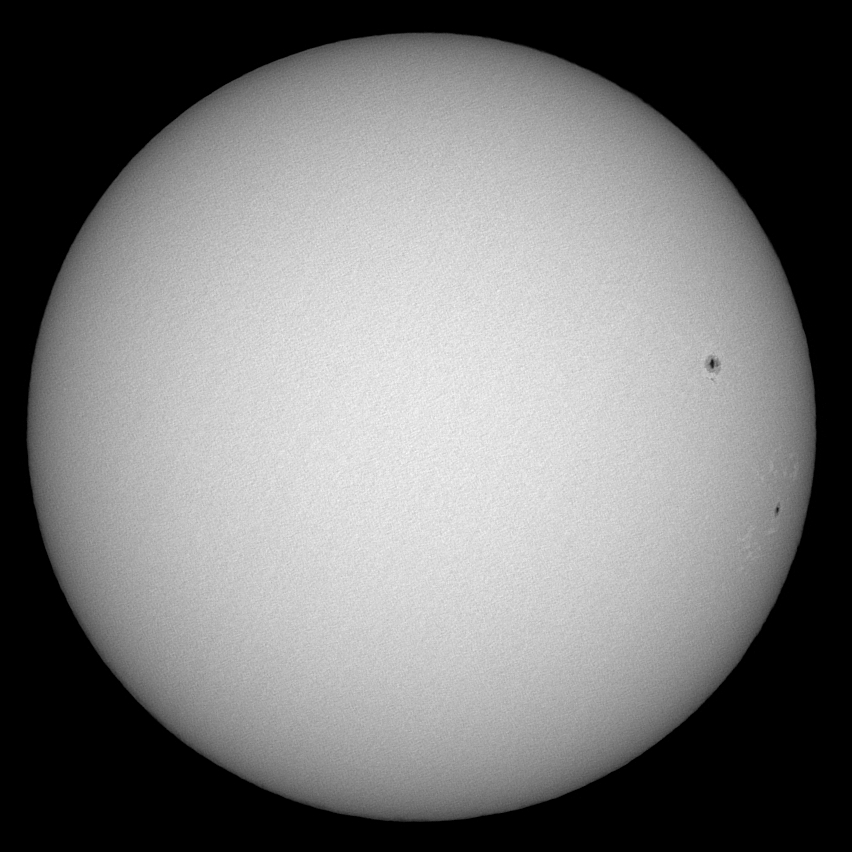sunspot: (700, 350, 723, 375), (774, 505, 782, 516)
